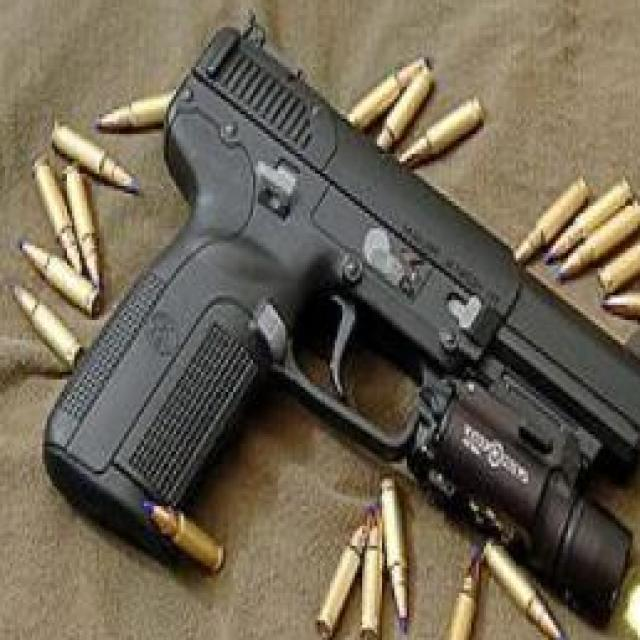pistol: (50, 7, 640, 558)
